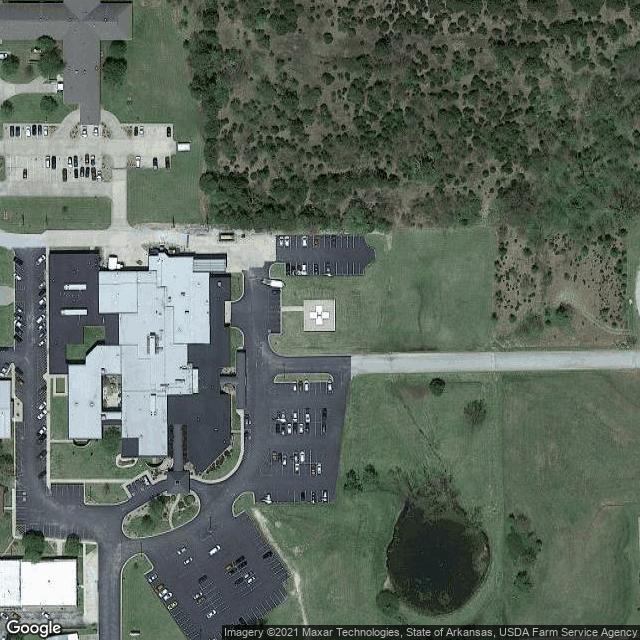Helipad: (300, 296, 337, 334)
